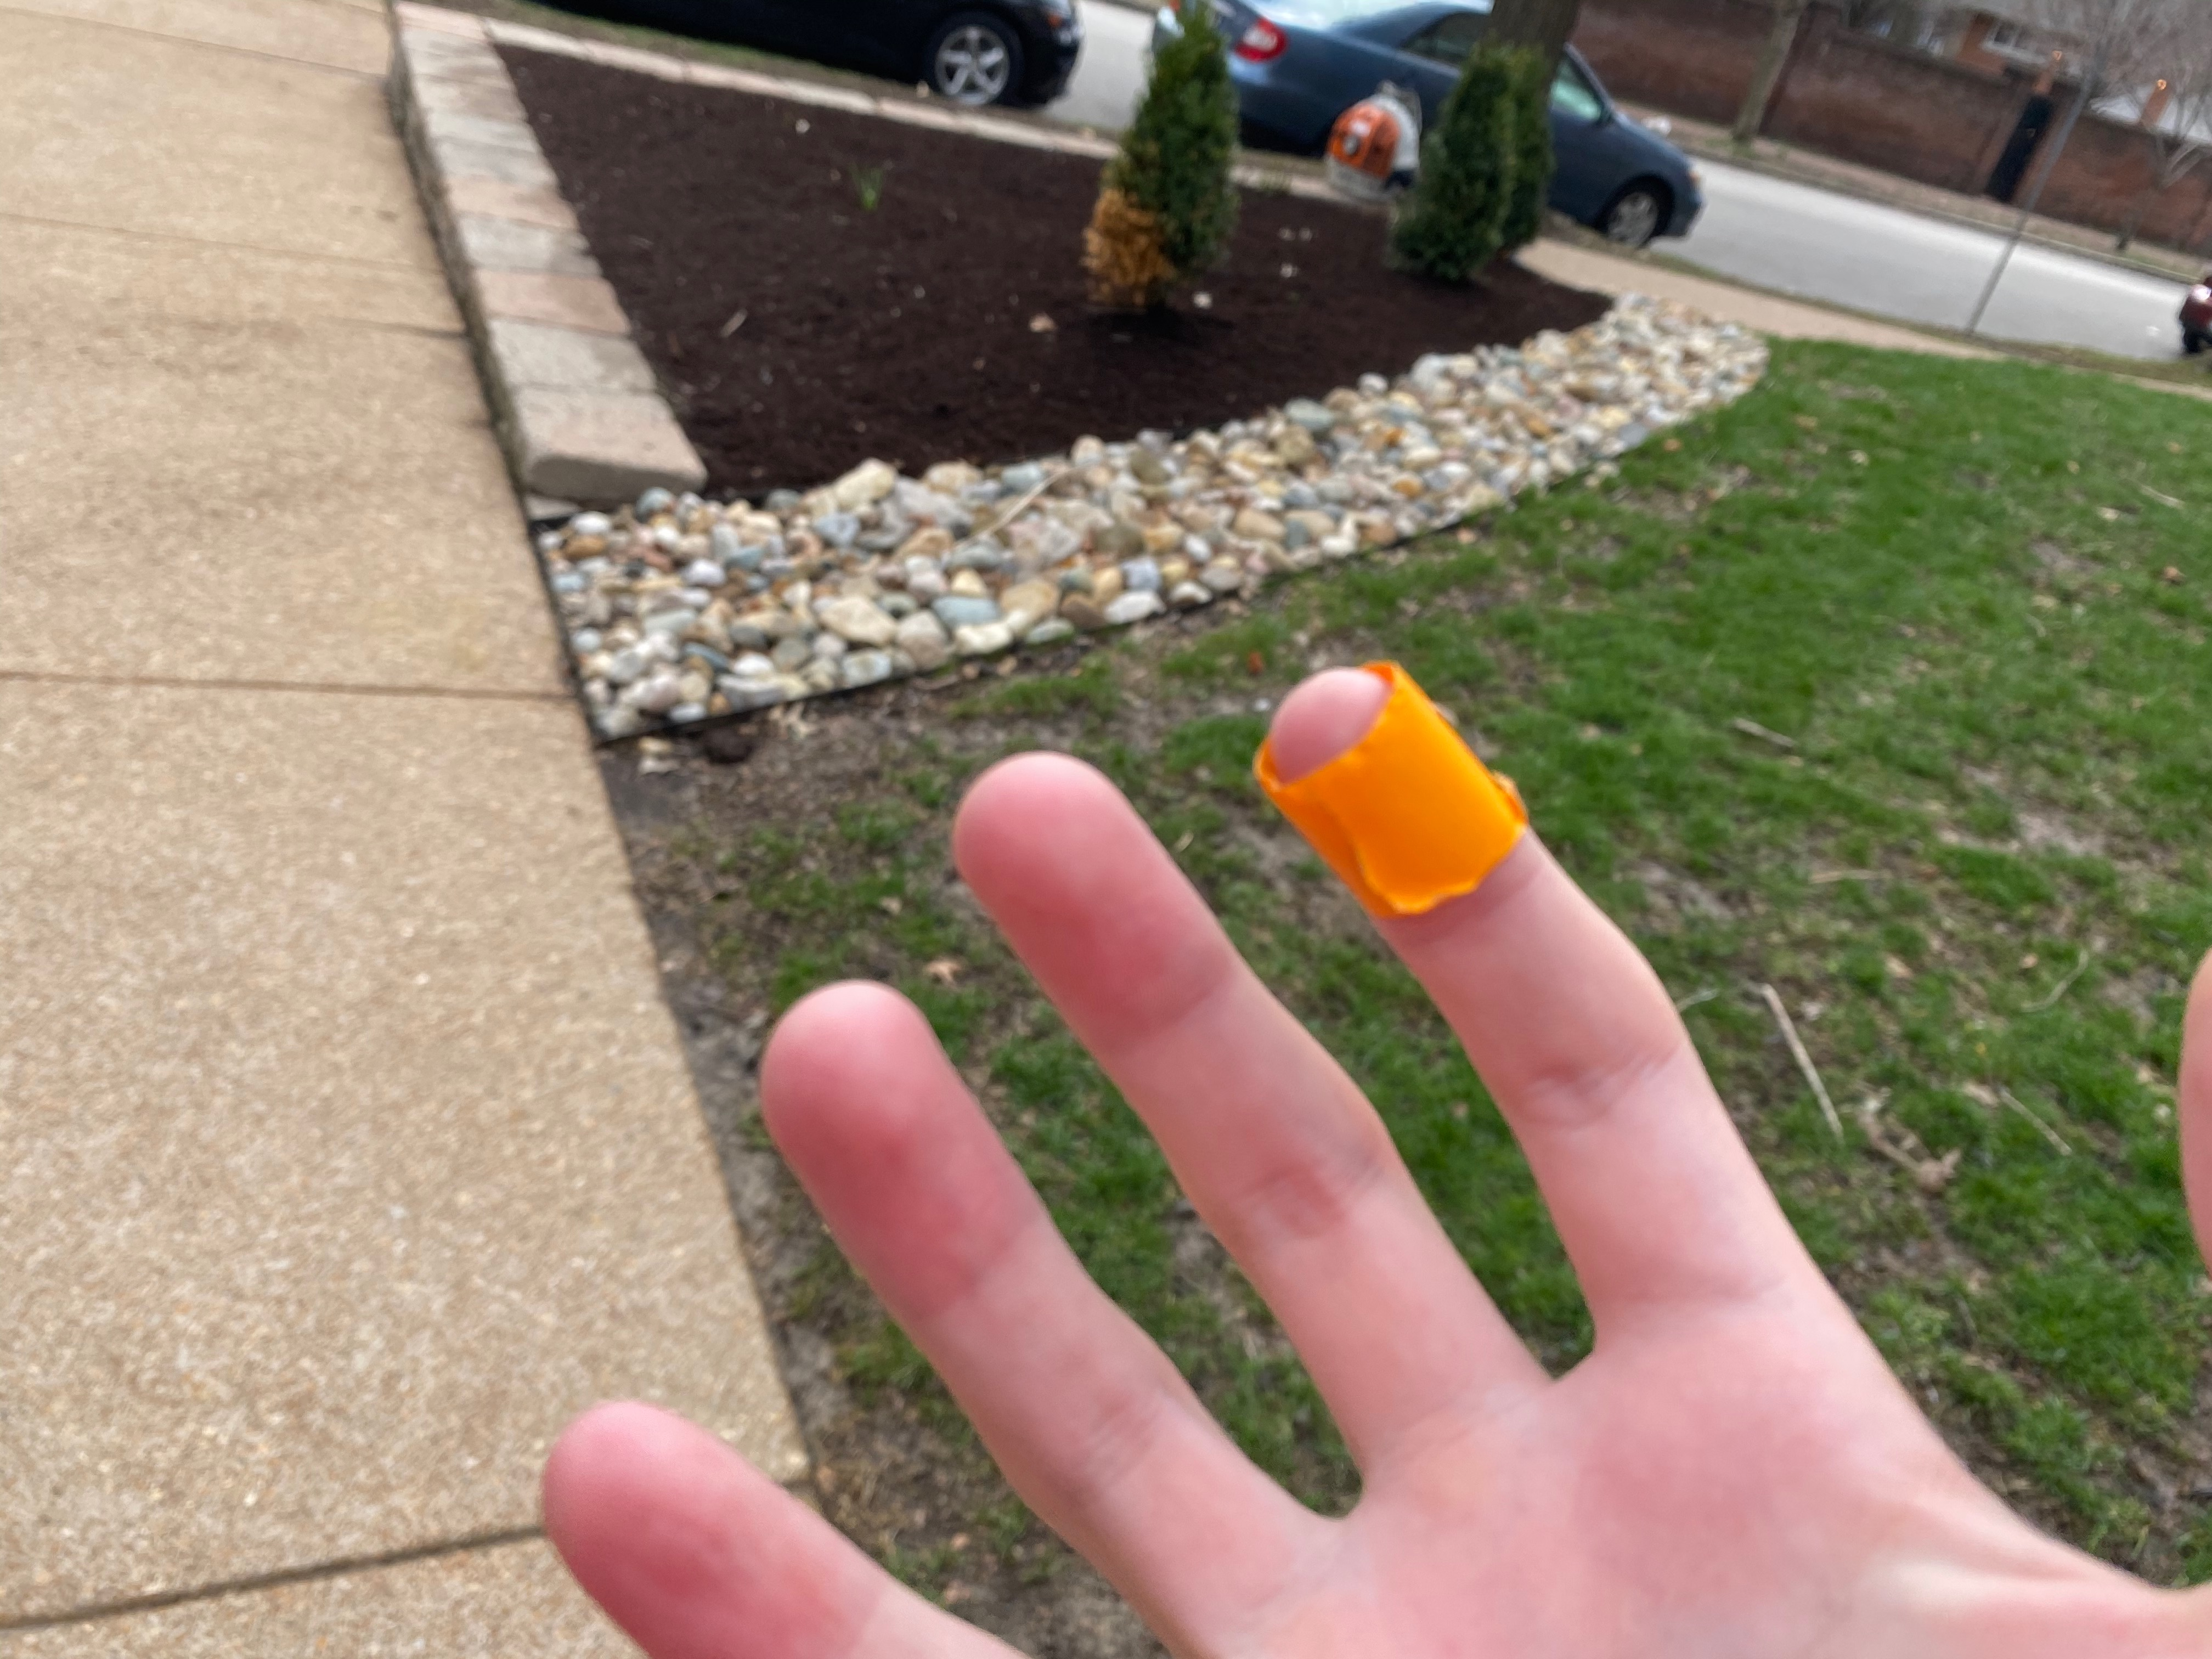fingertip: (1252, 666, 1594, 962)
